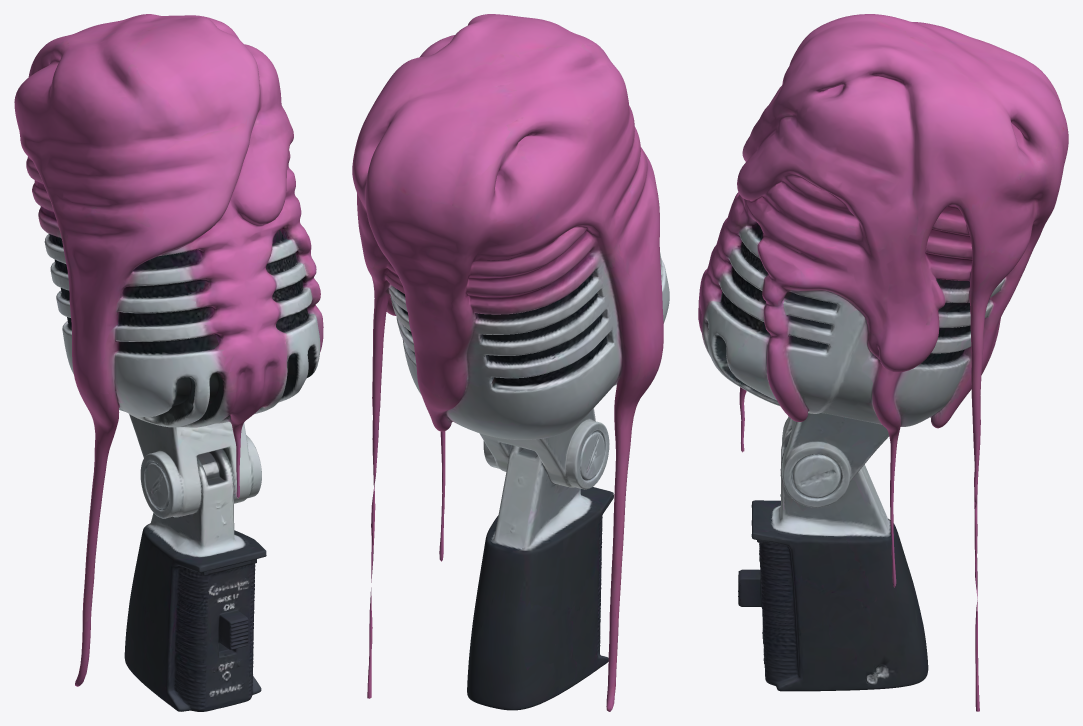
Rendered from mic.glb.
The picture shows the model from 3 angles, left to right: view 1: azimuth 30°, elevation 25°; view 2: azimuth 150°, elevation 25°; view 3: azimuth 270°, elevation 25°; orthographic projection. The views are drawn at different scales.
Parts seen in each view (by area): view 1: tripo_node_c233986d-25f6-4b96-8df7-229ffe886fb9; view 2: tripo_node_c233986d-25f6-4b96-8df7-229ffe886fb9; view 3: tripo_node_c233986d-25f6-4b96-8df7-229ffe886fb9.
Part boxes in pixels (x1,y1,x2,y2): tripo_node_c233986d-25f6-4b96-8df7-229ffe886fb9: [14, 14, 323, 711]; tripo_node_c233986d-25f6-4b96-8df7-229ffe886fb9: [352, 14, 669, 711]; tripo_node_c233986d-25f6-4b96-8df7-229ffe886fb9: [698, 14, 1068, 711].
Size of the model in its own units: 0.3656 by 0.9809 by 0.5132.
Materials: 1 (1 with a texture image).
